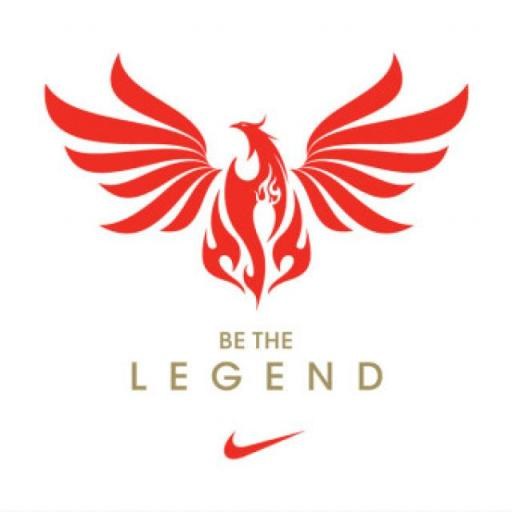Nike: (214, 422, 307, 462)
